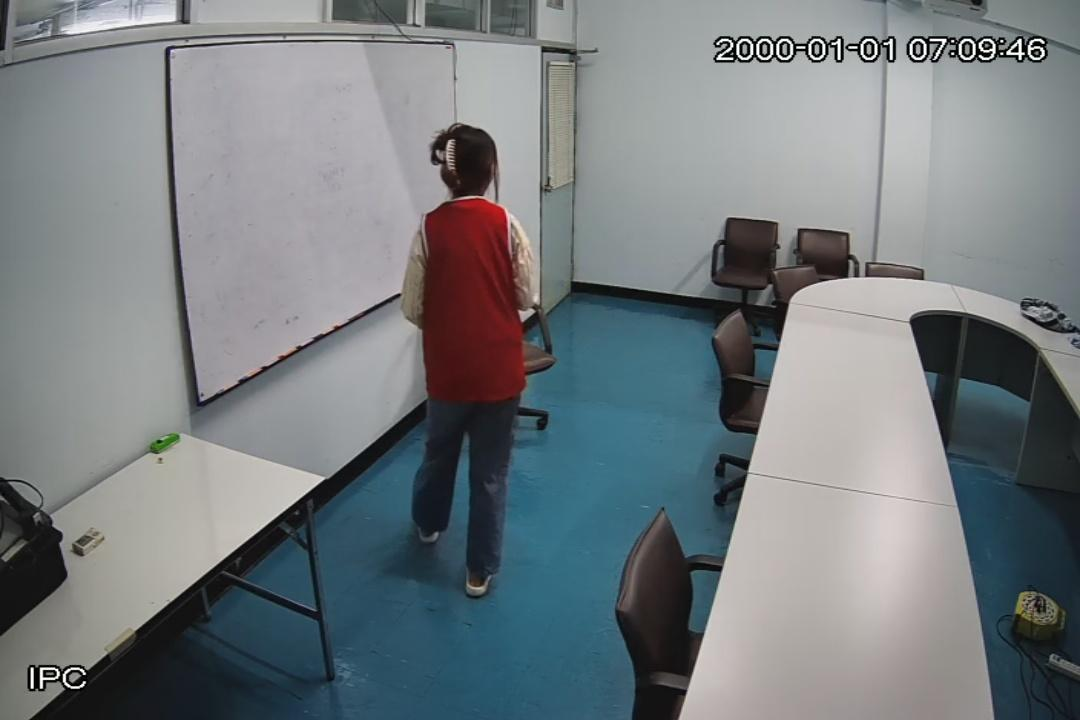normal: (400, 126, 534, 599)
